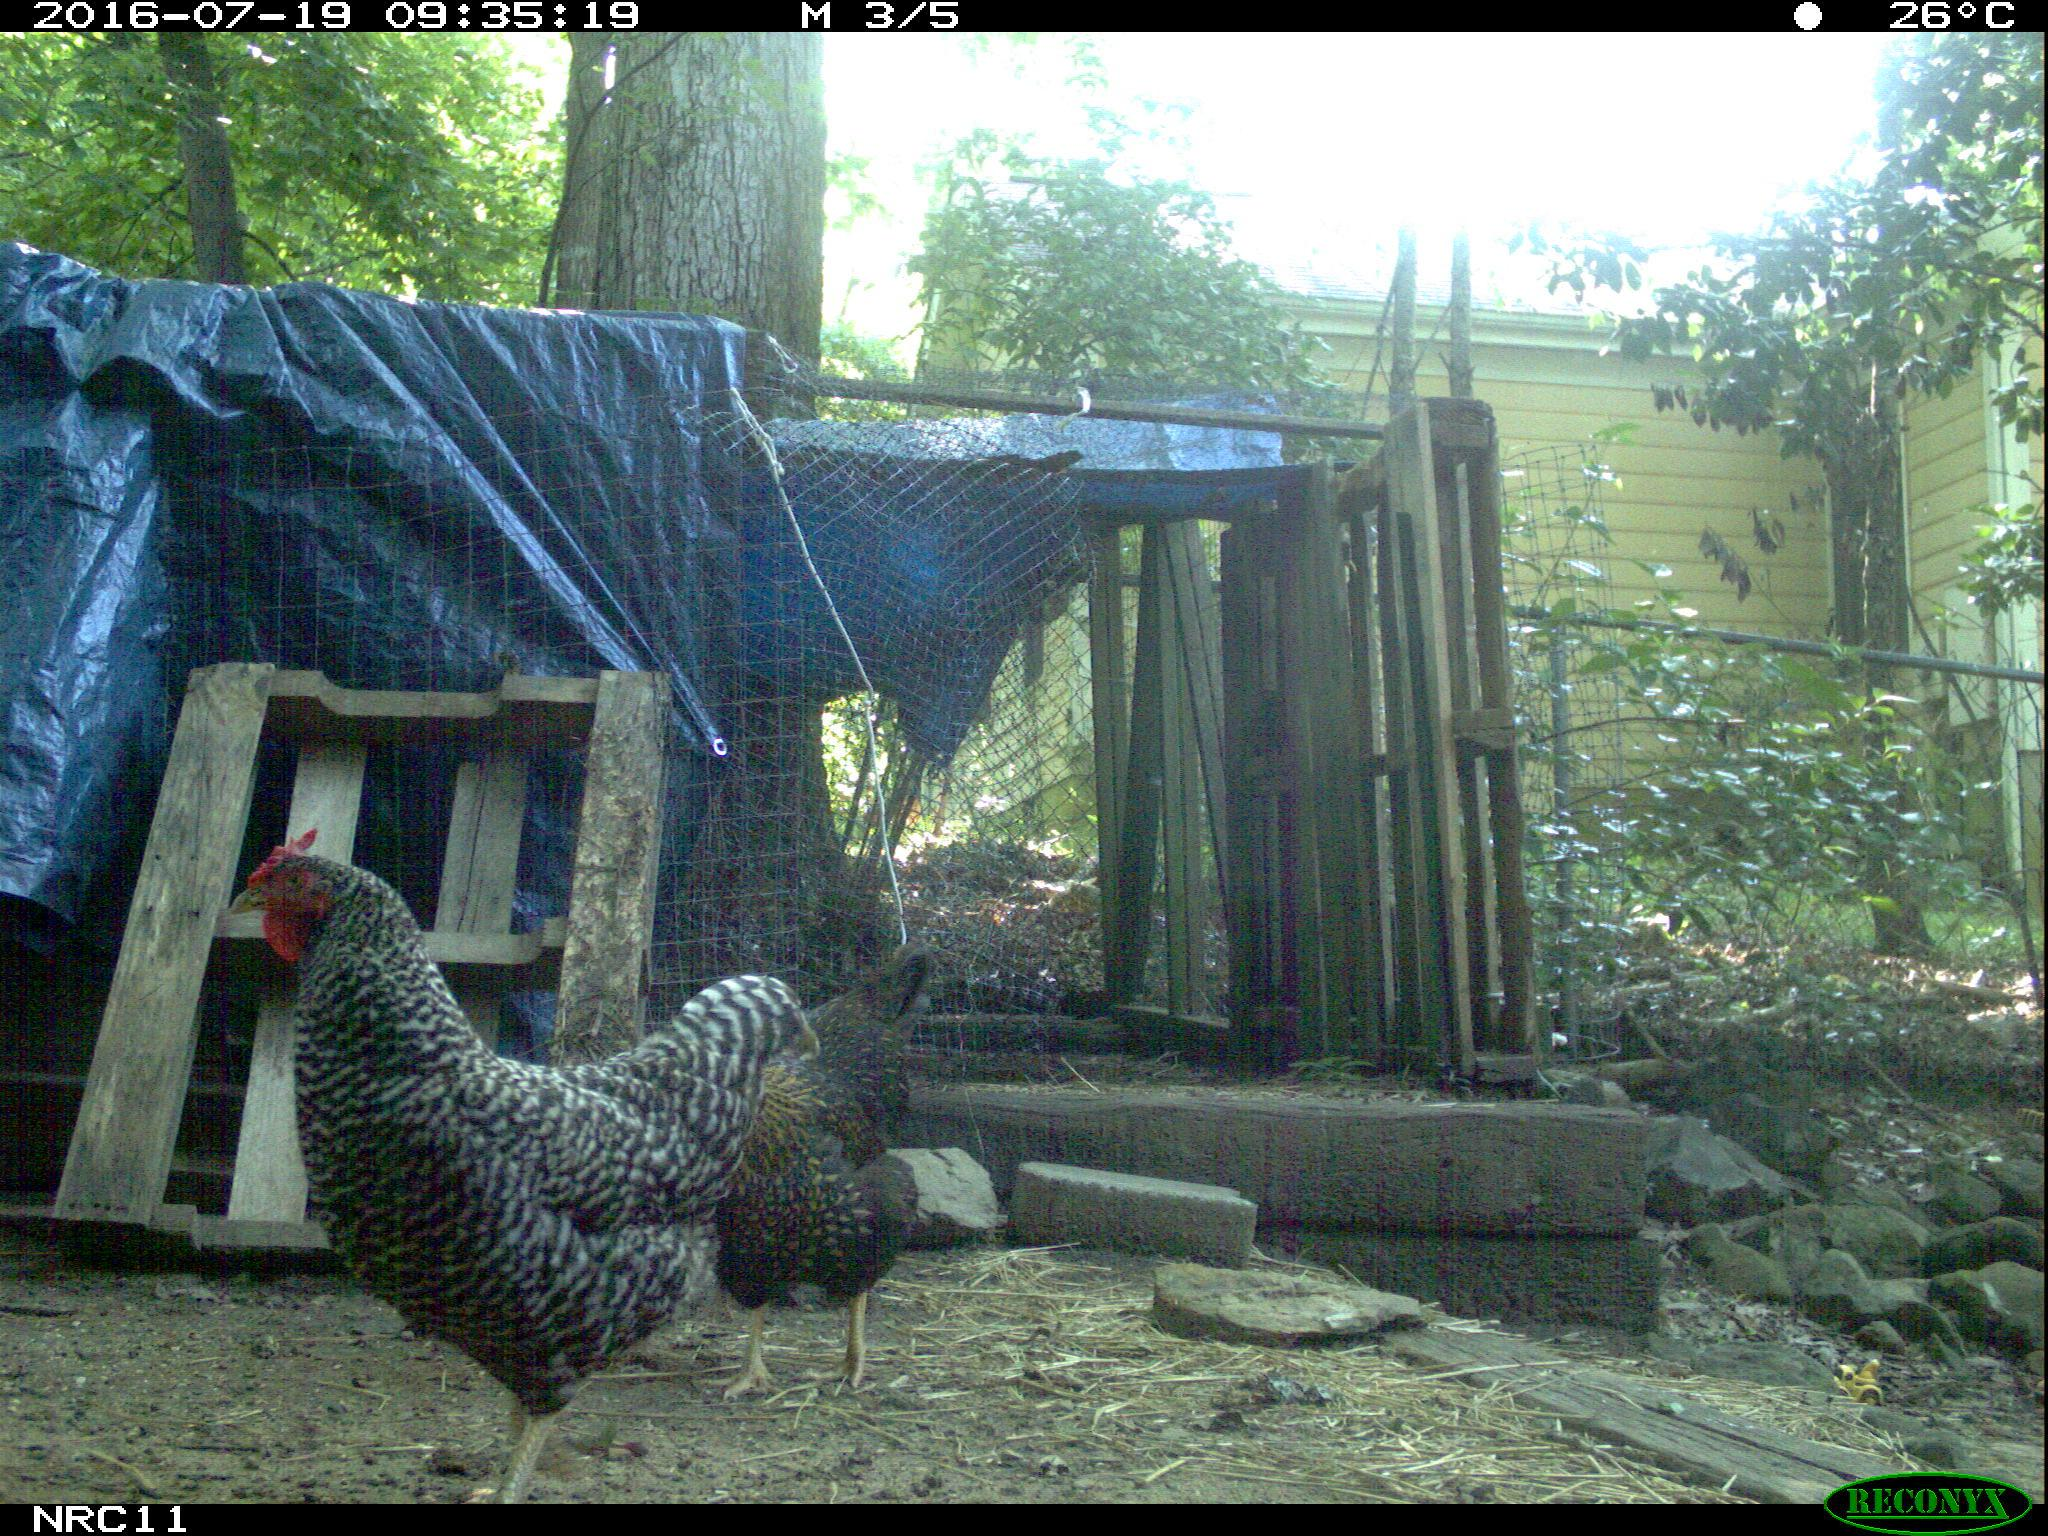Animal: (227, 828, 813, 1509), (693, 937, 935, 1404)
